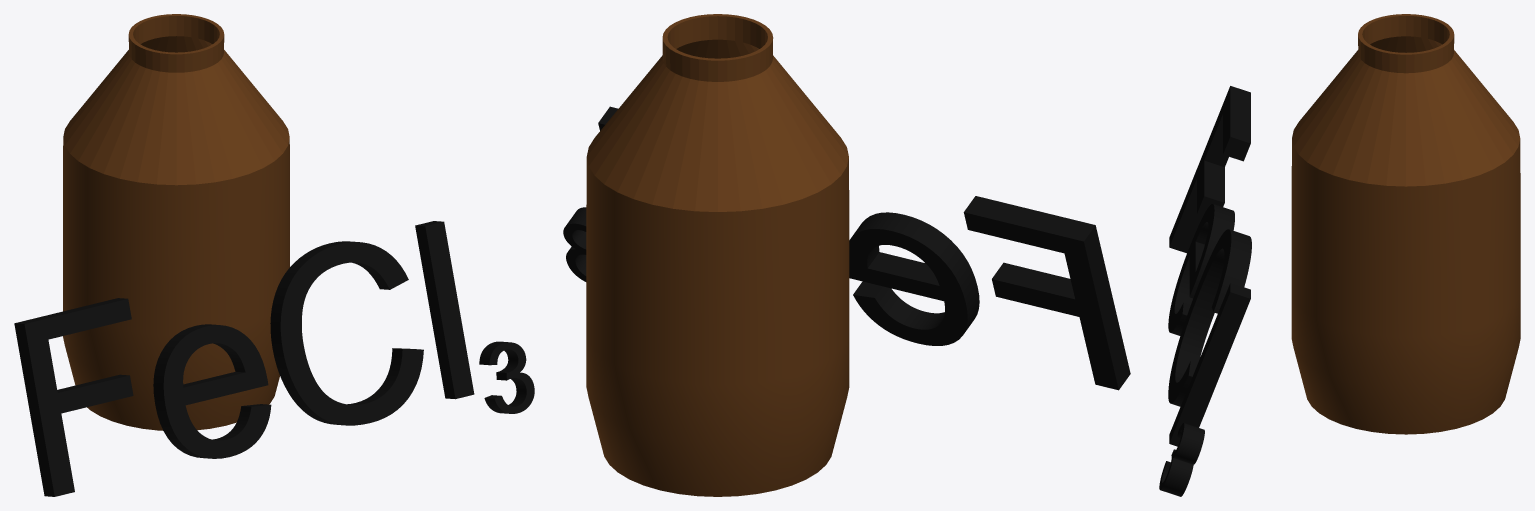
The model's file is fecl3.glb.
3 renders of one model, left to right at view 1: azimuth 30°, elevation 25°; view 2: azimuth 150°, elevation 25°; view 3: azimuth 270°, elevation 25°, orthographic. The views are drawn at different scales.
Visible parts, largest first — view 1: FeCl3; view 2: FeCl3; view 3: FeCl3.
Boxes of the visible parts, box(x1,y1,x2,y2) form: FeCl3: box(14, 14, 534, 496); FeCl3: box(563, 14, 1130, 496); FeCl3: box(1159, 14, 1520, 496).
Bounding box in the file's own units: 8 × 5.67 × 5.19.
